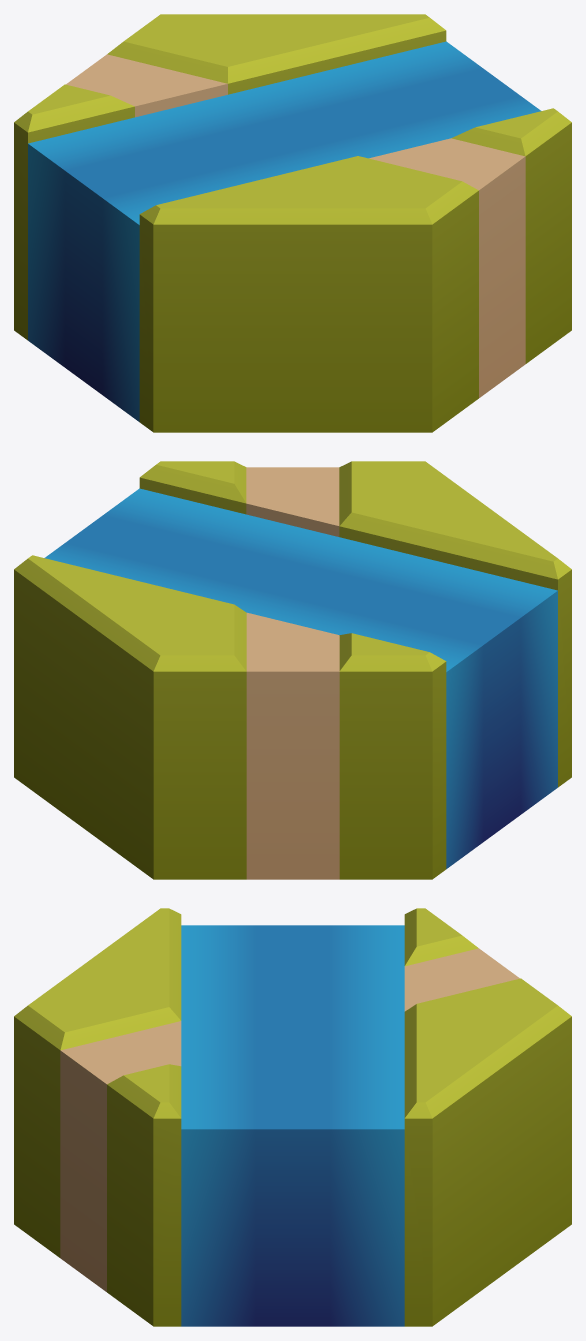
The model's file is hex_river_crossing_A.glb.
3 views of the same model, one above another, from view 1: azimuth 30°, elevation 25°; view 2: azimuth 150°, elevation 25°; view 3: azimuth 270°, elevation 25° (orthographic).
Parts seen in each view (by area): view 1: hex_river_crossing_A; view 2: hex_river_crossing_A; view 3: hex_river_crossing_A.
Boxes of the visible parts, box(x1,y1,x2,y2) form: hex_river_crossing_A: box(14, 14, 571, 432); hex_river_crossing_A: box(14, 461, 571, 879); hex_river_crossing_A: box(14, 908, 571, 1326).
Bounding box in the file's own units: 2 × 1 × 2.31.
1 material, 1 textured.
